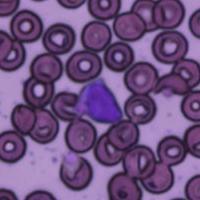L: (74, 77, 123, 124)
